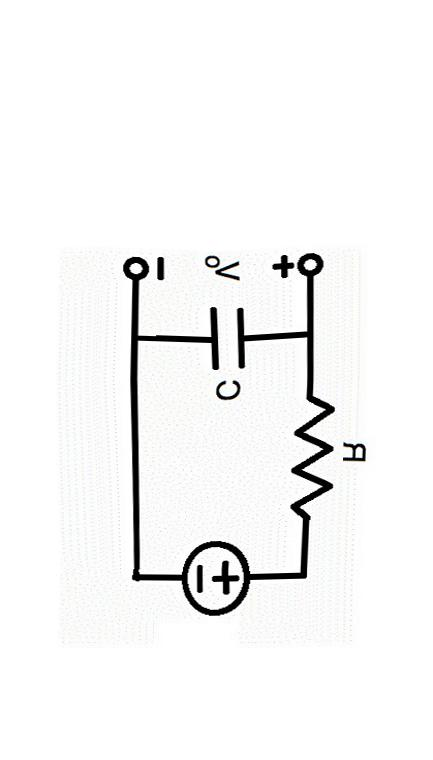Battery: (164, 528, 265, 629)
